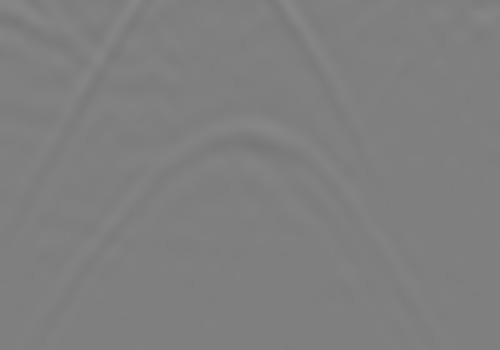hyperbola: (68, 115, 421, 309)
